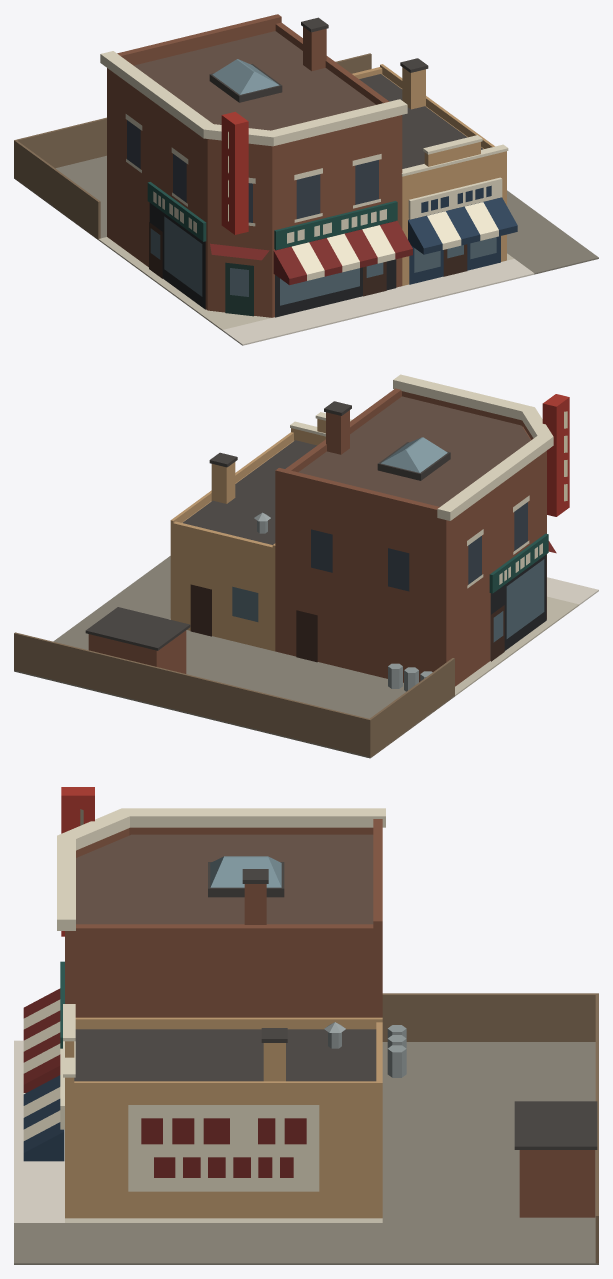
The model's file is highstreet_b.glb.
3 renders of one model, top to bottom at view 1: azimuth 30°, elevation 25°; view 2: azimuth 150°, elevation 25°; view 3: azimuth 270°, elevation 25°, orthographic. The views are drawn at different scales.
Visible parts, largest first — view 1: highstreet_b; view 2: highstreet_b; view 3: highstreet_b.
Part boxes in pixels (box(x1,y1,x2,y2)): highstreet_b: box(14, 14, 598, 345); highstreet_b: box(14, 374, 598, 758); highstreet_b: box(14, 787, 598, 1264).
Bounding box in the file's own units: 18 × 10.26 × 20.
